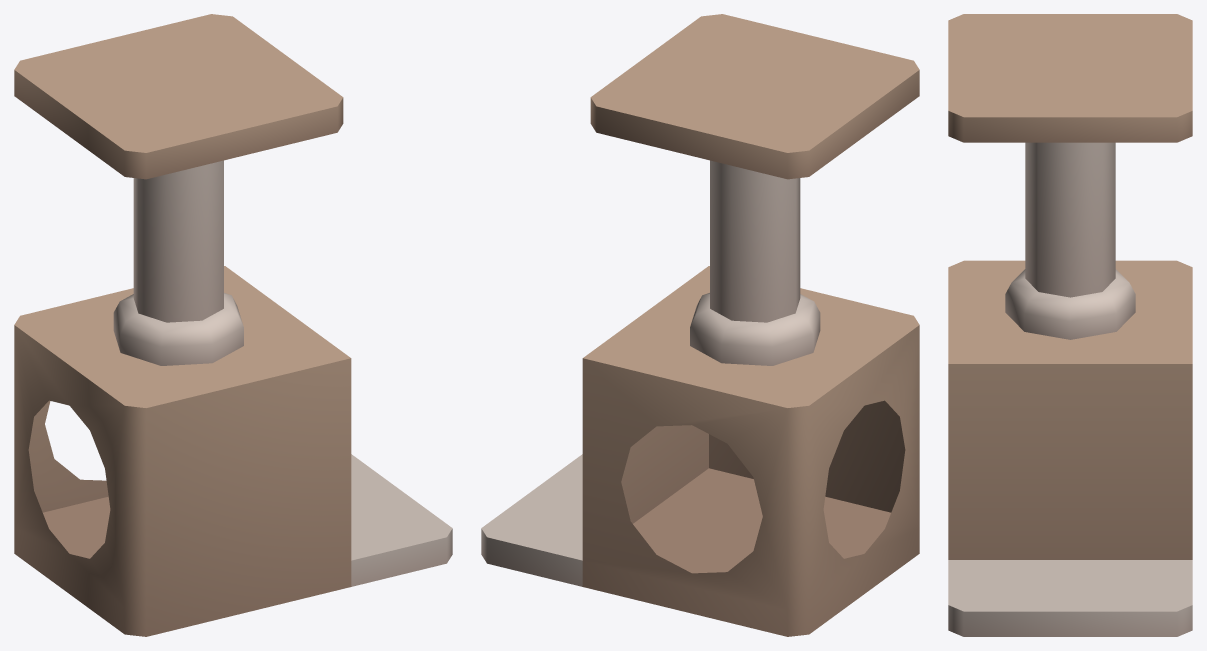
File: cat-tower-small (%secret).glb
3 views of the same model, side by side, from view 1: azimuth 30°, elevation 25°; view 2: azimuth 150°, elevation 25°; view 3: azimuth 270°, elevation 25° (orthographic). The views are drawn at different scales.
Parts seen in each view (by area): view 1: cat-tower-small (%secret); view 2: cat-tower-small (%secret); view 3: cat-tower-small (%secret).
Boxes of the visible parts, <box> form: cat-tower-small (%secret): <box>14,14,452,636</box>; cat-tower-small (%secret): <box>481,14,919,636</box>; cat-tower-small (%secret): <box>948,14,1192,636</box>.
Size of the model in its own units: 0.6 by 0.846 by 0.4.
